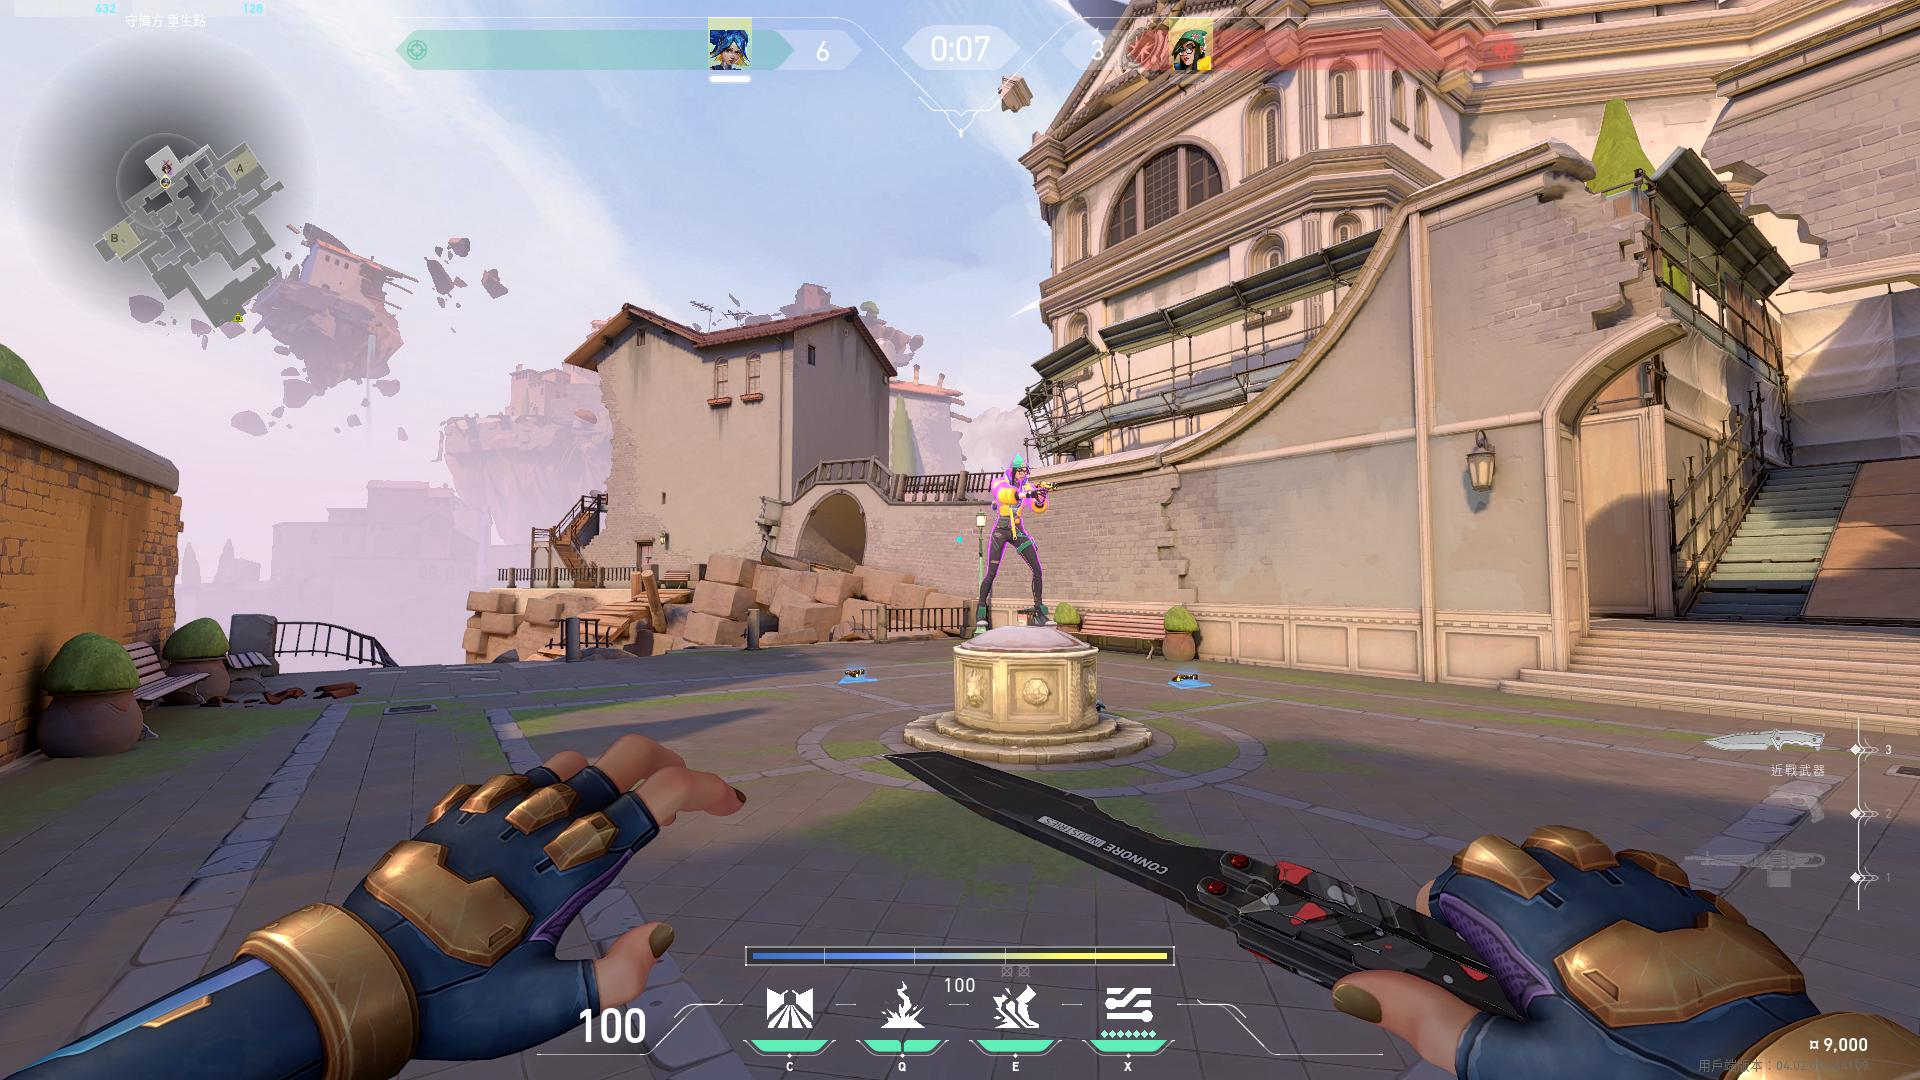enemyBody: (1000, 491, 1023, 524)
enemyHead: (1022, 472, 1036, 489)
